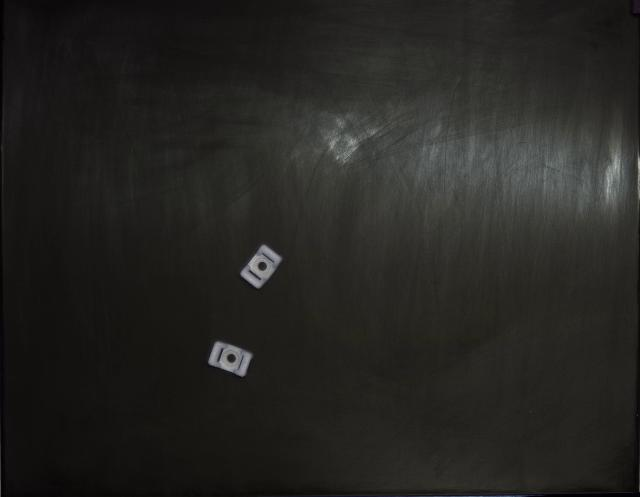first_side: (240, 245, 282, 289), (208, 341, 254, 378)
